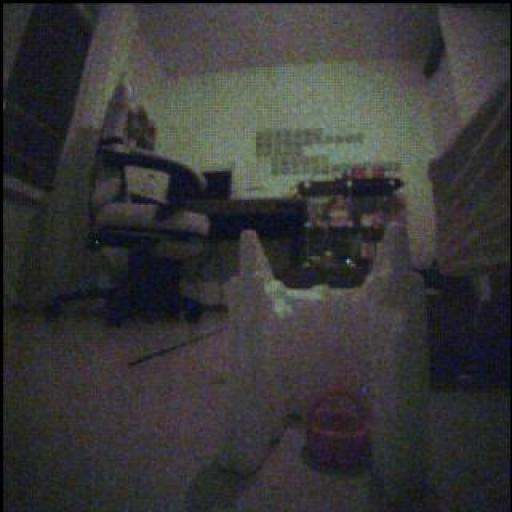basket: (307, 388, 371, 470), (351, 166, 369, 180)
